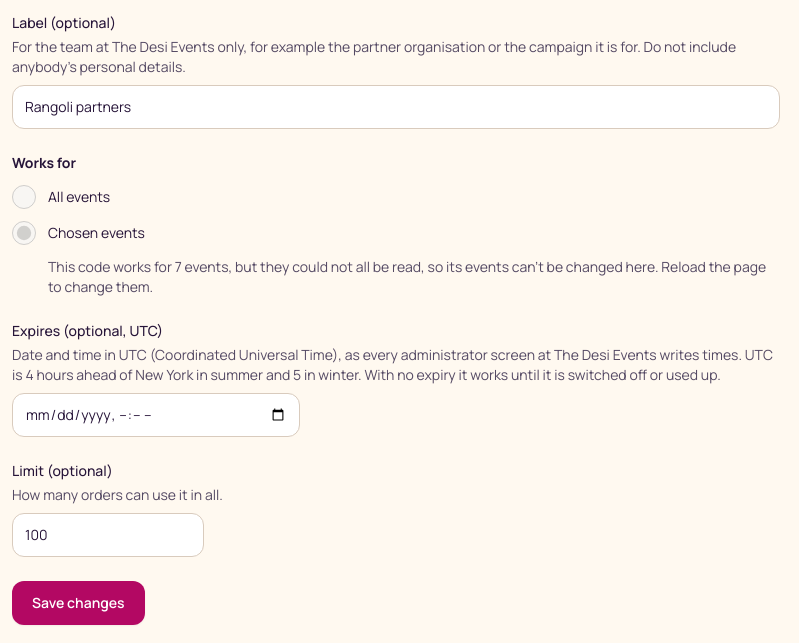
changing a referral code › keeps the scope as it is when the code was read without all its events, and never replaces it
The width and height of the screenshot is (799, 643).
Expected: the text "This code works for 7 events, but they could not all be read, so its events can’t be changed here. Reload the page to ch" is shown, [12, 257, 780, 297]
Expected: the radio button labelled "All events" is disabled, [12, 185, 36, 209]
// Anything else still saves, without touching the events.
Clear the field labelled "Label (optional)" at (396, 107), box [12, 85, 780, 129]
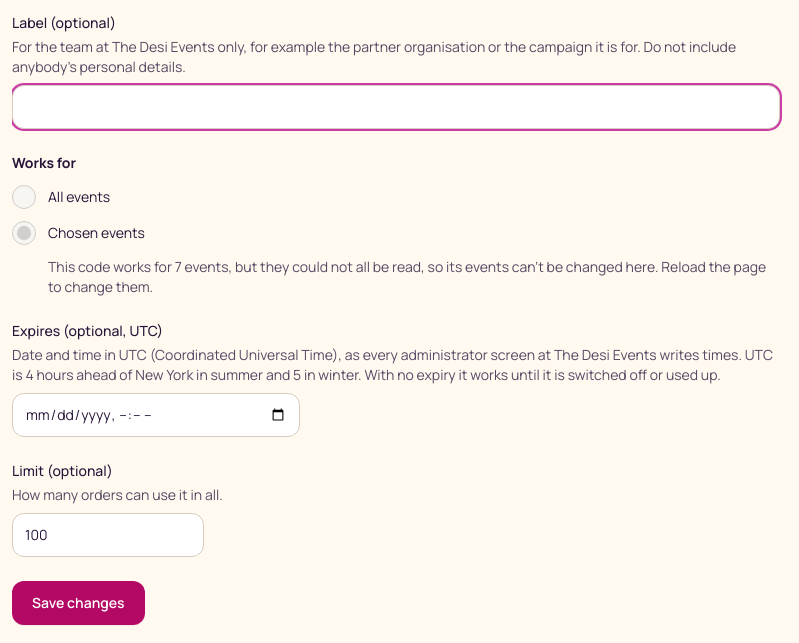
Click the button "Save changes" at (78, 603), box [12, 581, 145, 625]
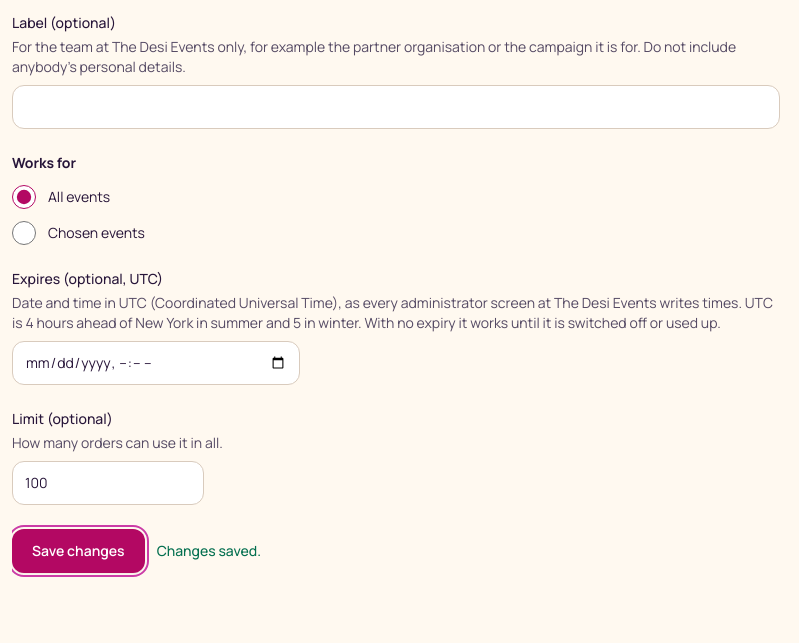
Result: the text "Changes saved." is shown at [157, 541, 261, 561]
